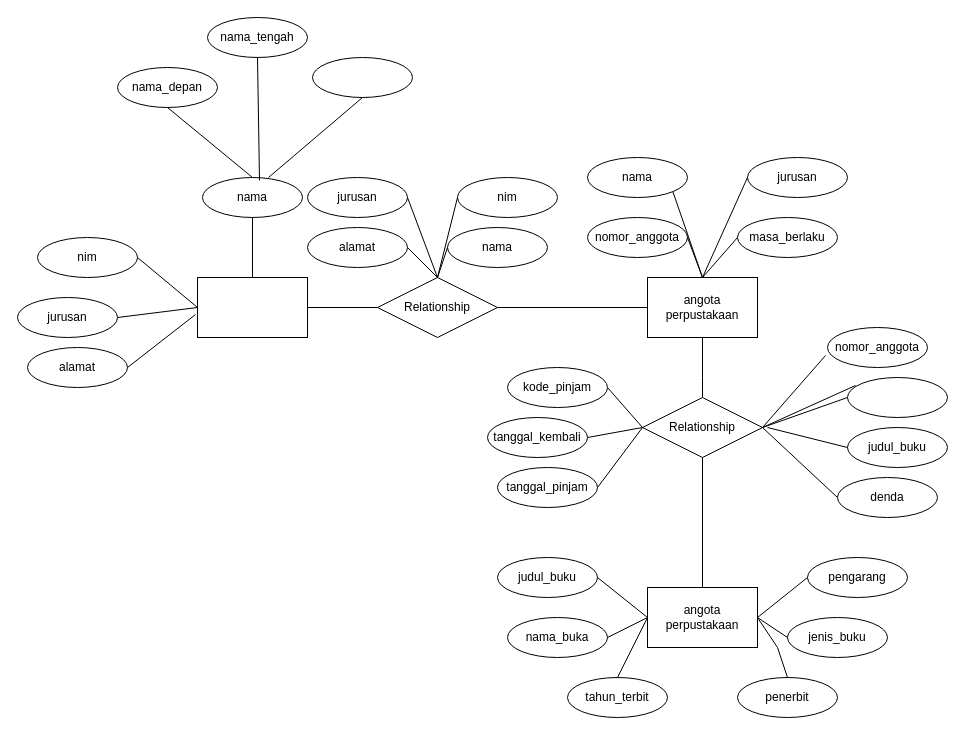
Image size: 965x735. Some labels were removed from this diagram. Here are the shapes that lost their labels. From the top down, the centre of each, then its label:
(x=362, y=77): nama_belakang
(x=252, y=307): Mahasiawa
(x=897, y=397): nomor_buku
